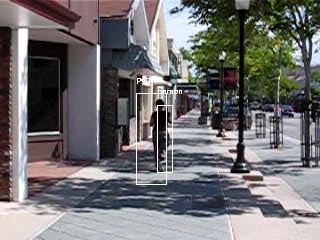person: (149, 99, 172, 174), (148, 99, 171, 174), (150, 99, 173, 174), (149, 98, 172, 173), (149, 100, 172, 175)
target_negative: (83, 183, 142, 237), (227, 164, 289, 201), (1, 183, 101, 202), (182, 214, 281, 229), (138, 217, 159, 239)
